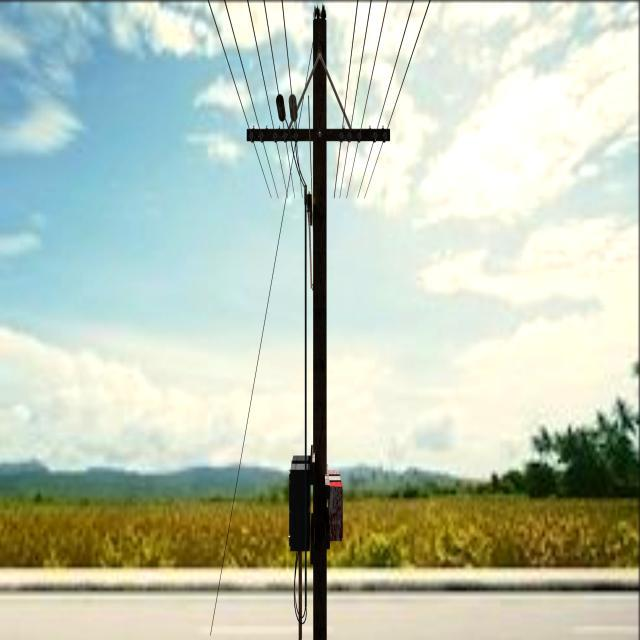crossarm: (246, 125, 392, 145)
pole: (313, 7, 327, 640)
transformer: (289, 455, 311, 553), (328, 476, 343, 542)
wire: (210, 155, 291, 640), (354, 0, 416, 203), (222, 0, 279, 198), (245, 0, 289, 196), (339, 0, 374, 202), (261, 0, 296, 198), (382, 0, 430, 129), (330, 0, 360, 202), (277, 0, 304, 196), (208, 0, 248, 124), (247, 127, 269, 191), (295, 551, 305, 640), (365, 145, 382, 197)
